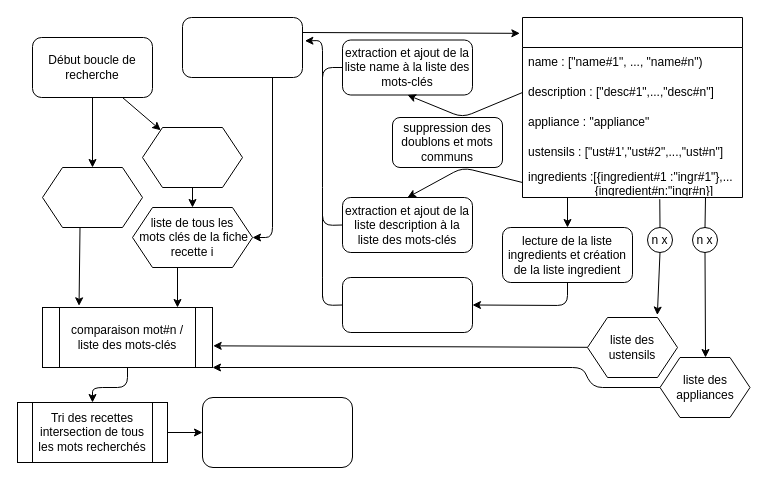
Some shapes in this 768 by 485 pixel diagram are drawn without their labels. The box of each missing label's shape, as (x1, y1, x2, y2) in pixels:
extraction et ajout de la liste ingredient à la liste des mots-clés: (342, 276, 472, 332)
fiche recette (i): (522, 16, 742, 198)
INITIALISATION création de la liste des mots-clés: (182, 16, 302, 78)
liste des fiches recettes: (142, 126, 242, 188)
liste des mots recherchés: (42, 166, 142, 228)
Liste des résultats pour affichage: (202, 396, 352, 468)
